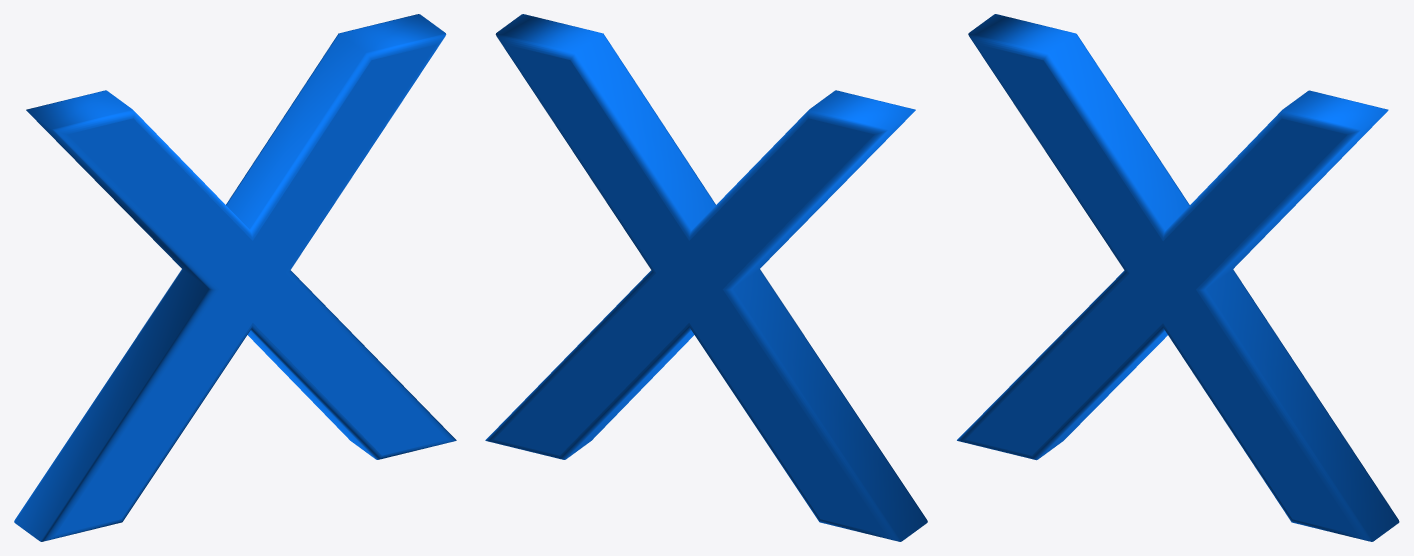
The picture shows the model from 3 angles, left to right: view 1: azimuth 30°, elevation 25°; view 2: azimuth 150°, elevation 25°; view 3: azimuth 330°, elevation 25°; orthographic projection.
Parts seen in each view (by area): view 1: XX; view 2: XX; view 3: XX.
Part boxes in pixels (bbox=[...]): XX: bbox=[14, 14, 456, 541]; XX: bbox=[485, 14, 927, 541]; XX: bbox=[957, 14, 1399, 541].
Bounding box in the file's own units: 0.5317 × 0.5 × 0.0712.
